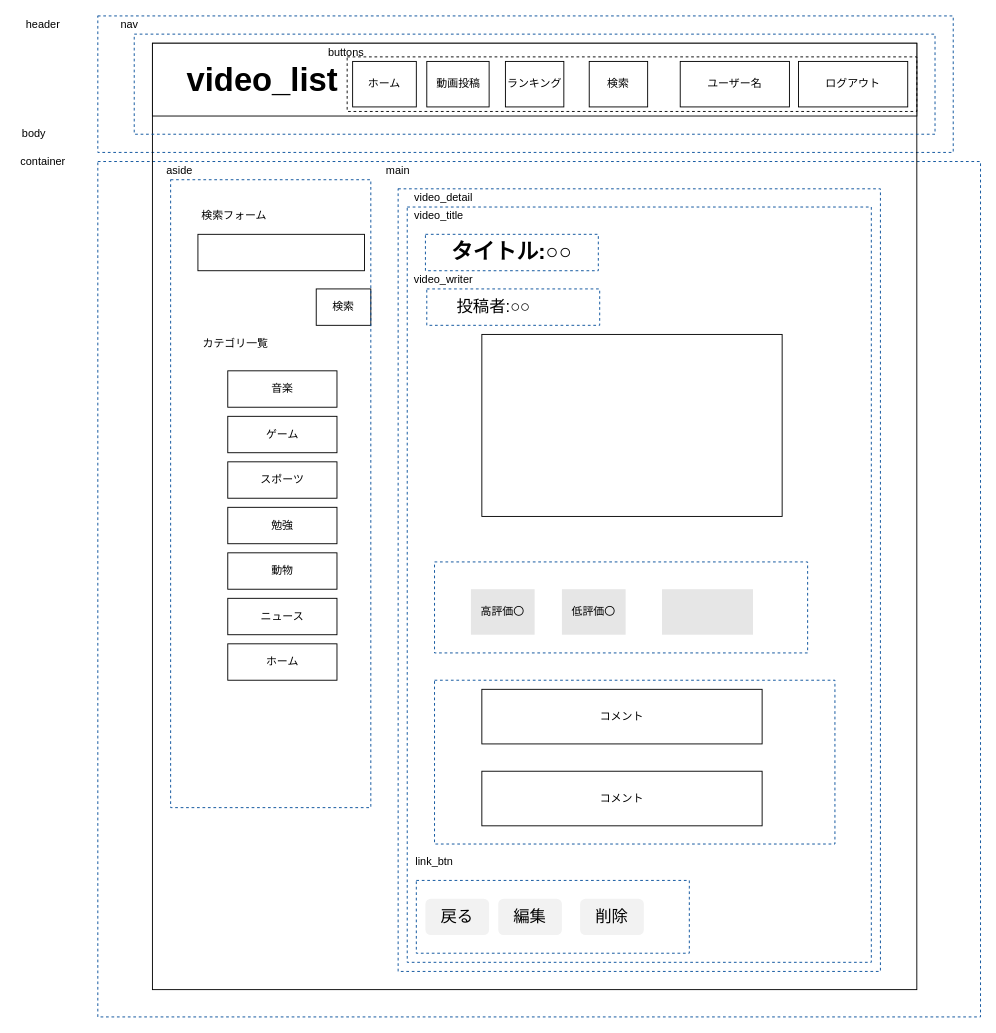
The diagram is 996 pixels wide and 1033 high, and some of its shapes have lost their labels. The centre of each missing label's shape, as x and y in pixels:
コメントする: the point at 707,611
動画ファイル: the point at 631,425
